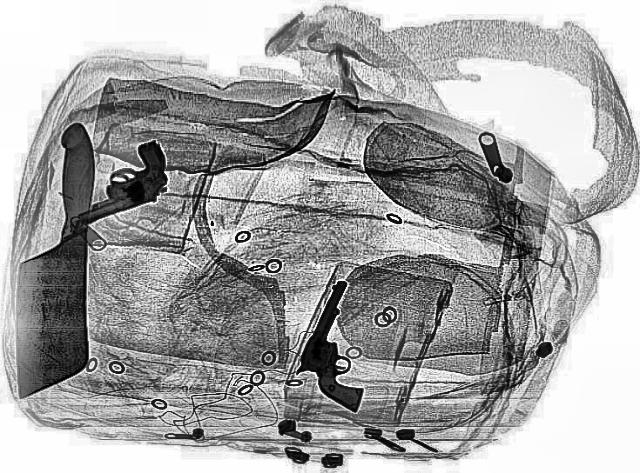Gun: (279, 278, 413, 412), (48, 139, 190, 226)
Knife: (12, 120, 92, 400)
